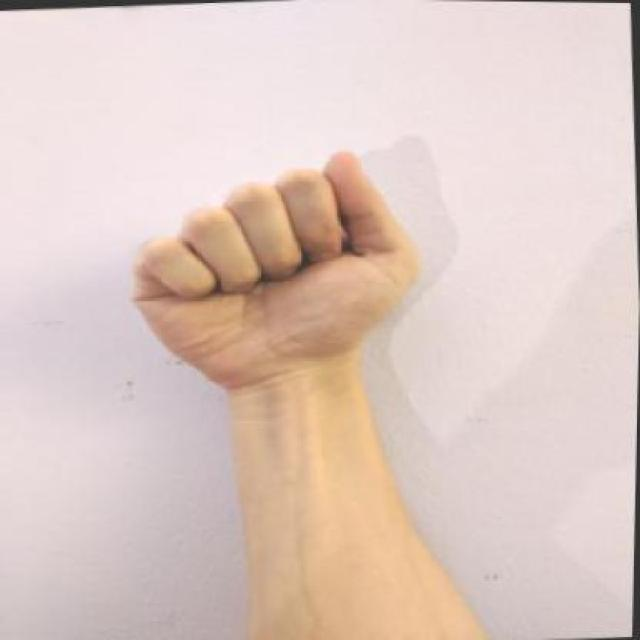A: (108, 133, 441, 404)
